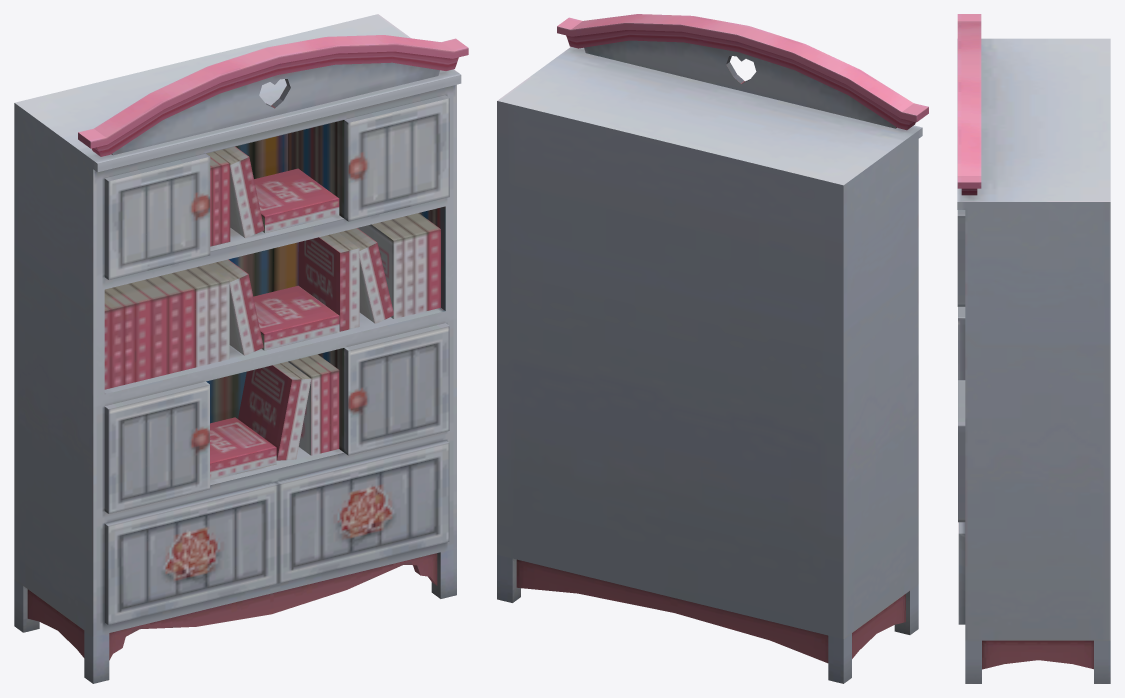
Rendered from furni_0200615.FBX.
The picture shows the model from 3 angles, left to right: view 1: azimuth 30°, elevation 25°; view 2: azimuth 150°, elevation 25°; view 3: azimuth 270°, elevation 25°; orthographic projection. The views are drawn at different scales.
Visible parts, largest first — view 1: furni_0200615; view 2: furni_0200615; view 3: furni_0200615.
Boxes of the visible parts, bbox=[...] form: furni_0200615: bbox=[14, 14, 468, 683]; furni_0200615: bbox=[497, 14, 928, 683]; furni_0200615: bbox=[957, 14, 1110, 683].
Size of the model in its own units: 166 by 246 by 63.29.
1 material, 1 textured.
